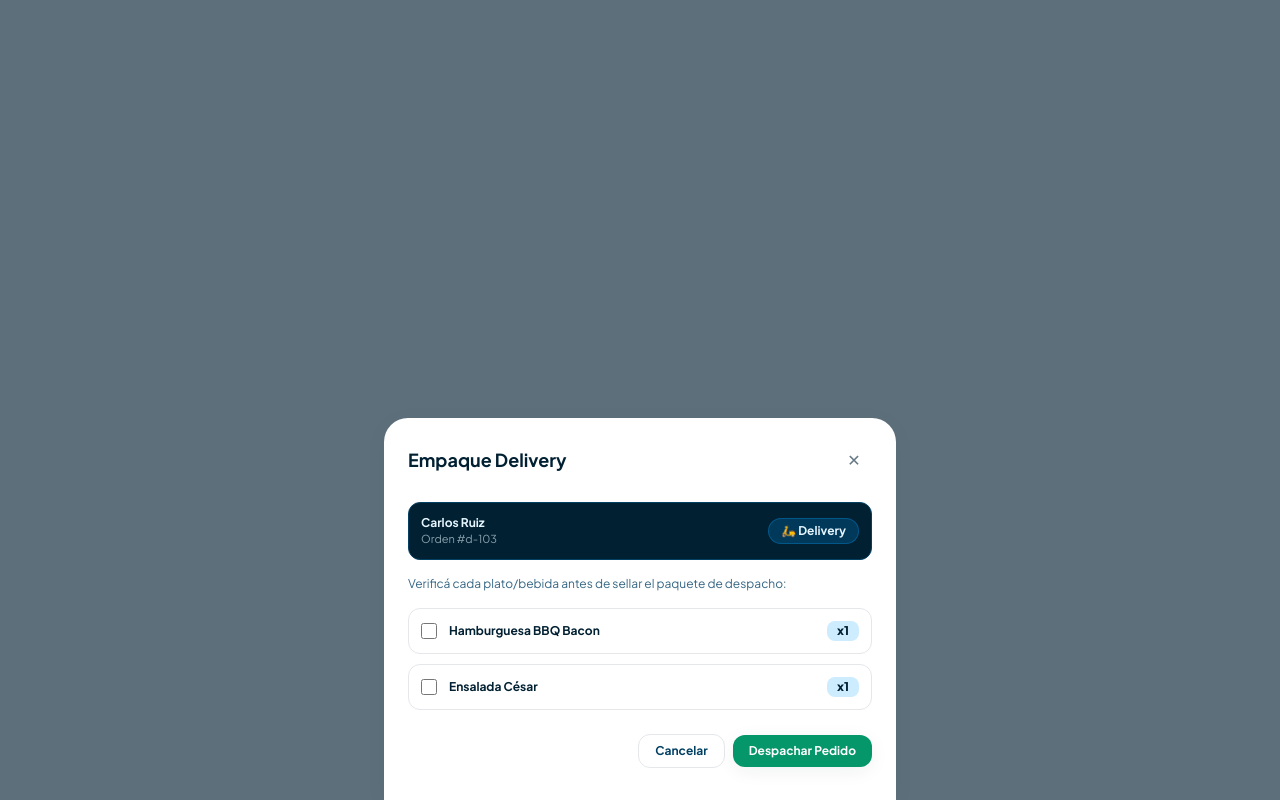
Scenario: kds-delivery-checklist: Checklist de empaque delivery en KDS › Scenario 3: Checklist incompleto bloquea el despacho y muestra advertencia
The image size is (1280, 800).
Solo marca 1 de los 2 ítems.
Click the checkbox labelled "Hamburguesa BBQ Bacon x1" at (429, 631), box [421,623,437,639]
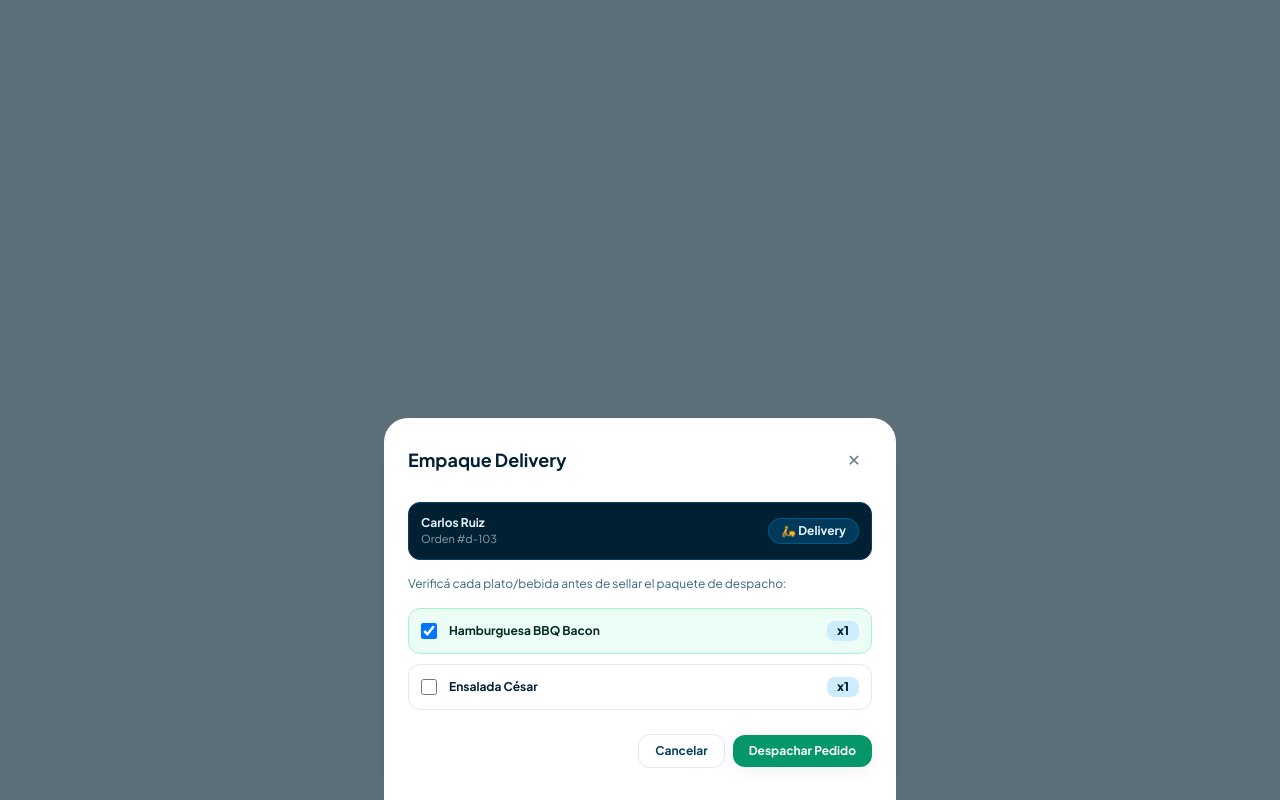
Intenta despachar.
Click the button "Despachar Pedido" at (802, 751), box [733,735,872,767]
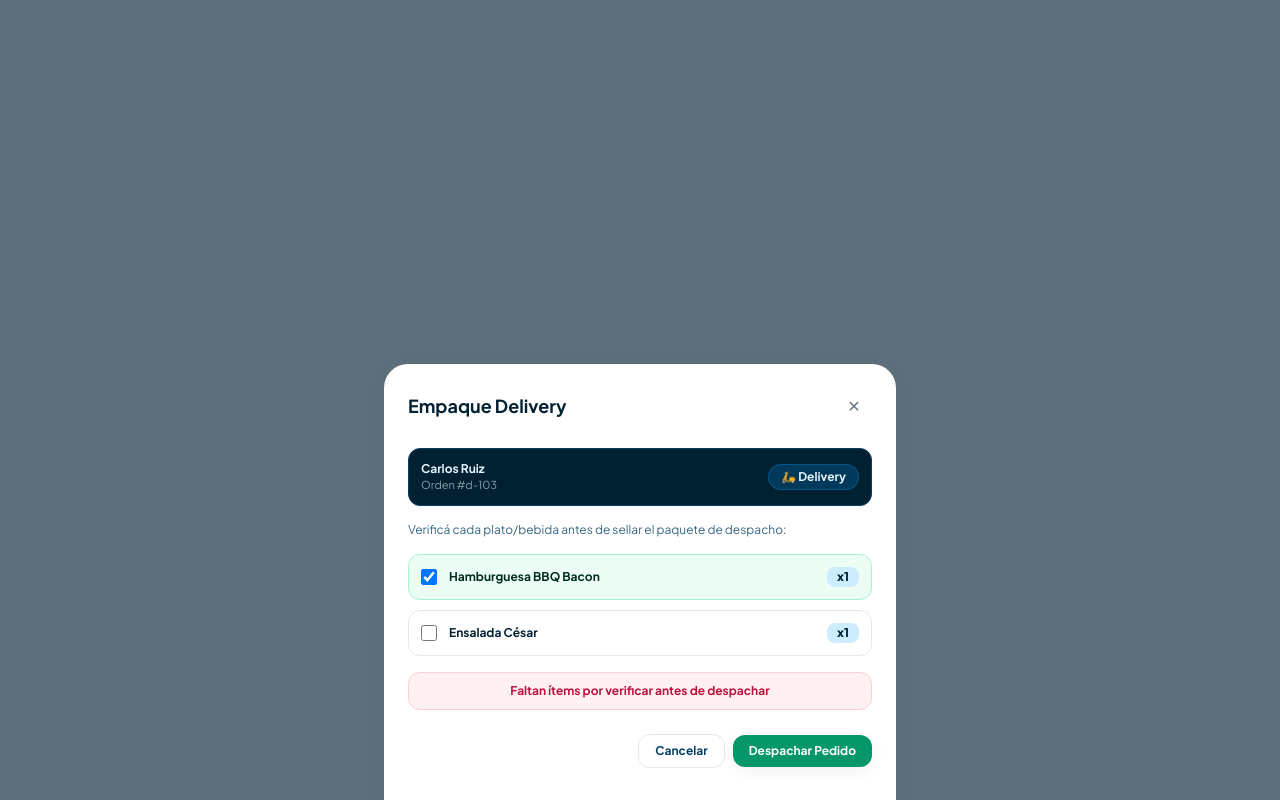
Result: the text "Faltan ítems por verificar antes de despachar" is shown at [408,672,872,710]
